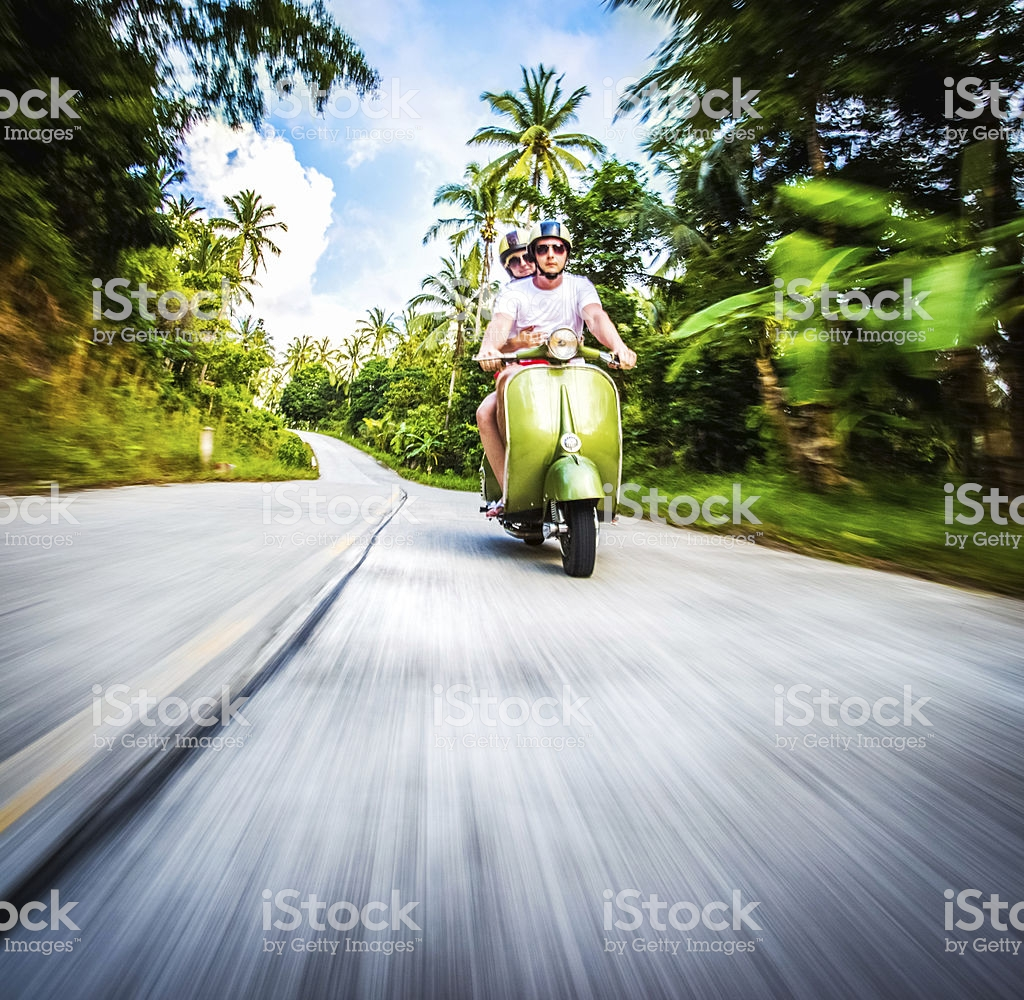helmet: (530, 219, 588, 249), (500, 226, 542, 256)
